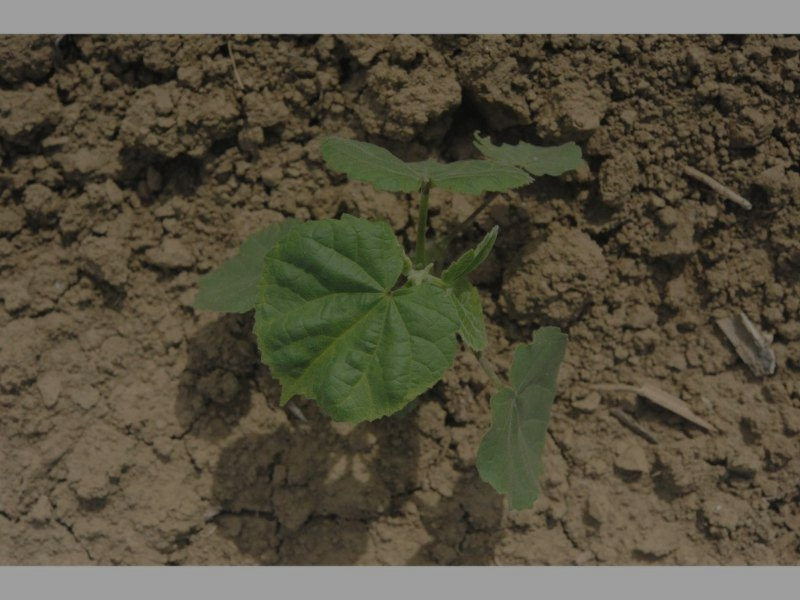velvet: (192, 136, 584, 510)
